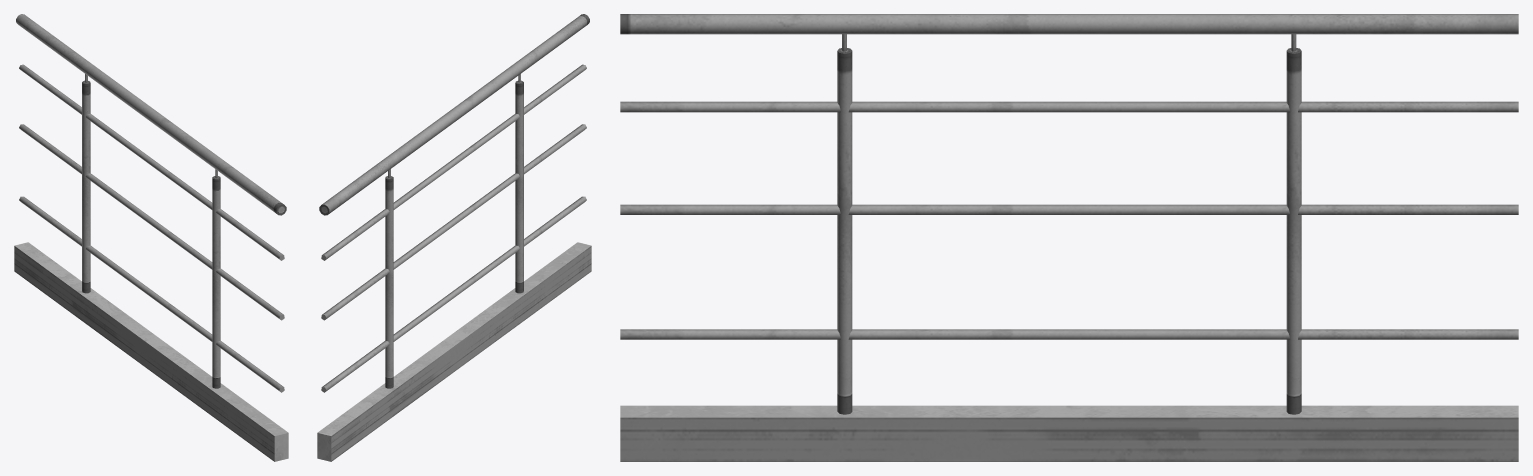
File: HH_Railing_2m.fbx
The picture shows the model from 3 angles, left to right: view 1: azimuth 30°, elevation 25°; view 2: azimuth 150°, elevation 25°; view 3: azimuth 270°, elevation 25°; orthographic projection. The views are drawn at different scales.
Parts seen in each view (by area): view 1: HH_Railing_2m_LOD0; view 2: HH_Railing_2m_LOD0; view 3: HH_Railing_2m_LOD0.
Part boxes in pixels (<box>): HH_Railing_2m_LOD0: <box>14,14,288,461</box>; HH_Railing_2m_LOD0: <box>317,14,591,461</box>; HH_Railing_2m_LOD0: <box>620,14,1518,461</box>.
Size of what is drawn, in the model's own units: 6.25 by 108 by 200.
